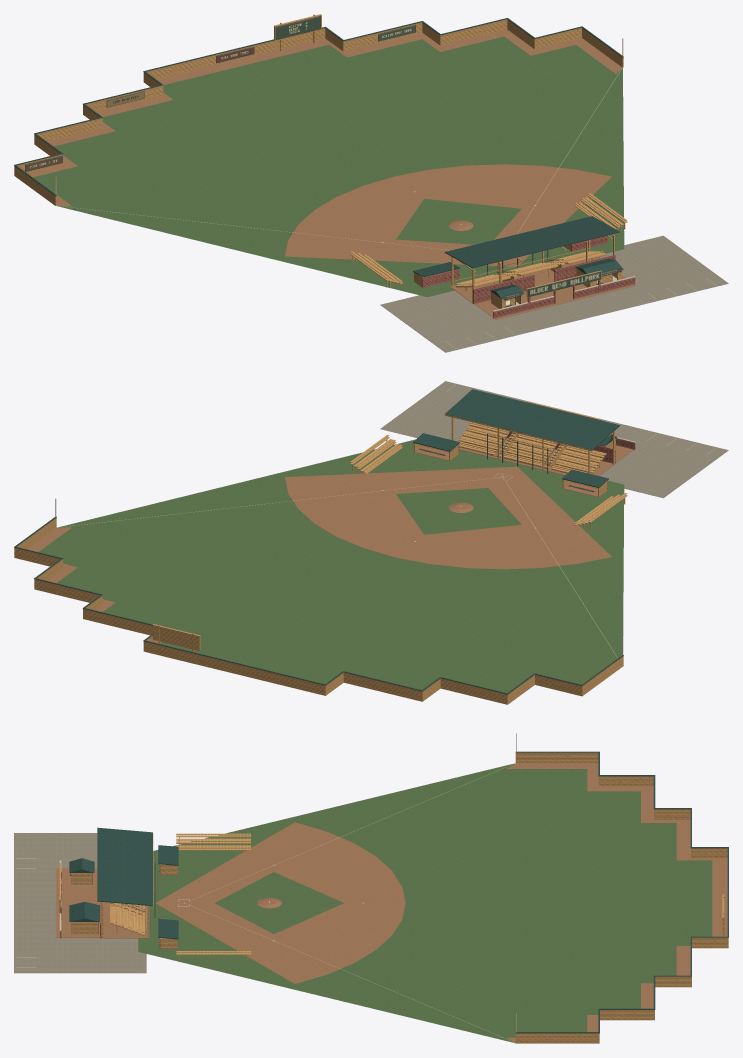
The model's file is alder-bend-1935-far.glb.
3 renders of one model, top to bottom at view 1: azimuth 30°, elevation 25°; view 2: azimuth 150°, elevation 25°; view 3: azimuth 270°, elevation 25°, orthographic.
Visible parts, largest first — view 1: diamond, lot, outfield_fence, grandstand, park_buildings, line_bleachers, sign_name, sign_scoreboard; view 2: diamond, outfield_fence, grandstand, lot, park_buildings, line_bleachers; view 3: diamond, lot, outfield_fence, grandstand, park_buildings, line_bleachers.
Part boxes in pixels (bbox=[...]): diamond: bbox=[27, 29, 624, 297]; lot: bbox=[380, 235, 728, 352]; outfield_fence: bbox=[14, 14, 623, 205]; grandstand: bbox=[444, 216, 619, 304]; park_buildings: bbox=[413, 235, 635, 318]; line_bleachers: bbox=[350, 193, 627, 287]; sign_name: bbox=[528, 271, 601, 296]; sign_scoreboard: bbox=[275, 16, 320, 39]; diamond: bbox=[27, 433, 624, 692]; outfield_fence: bbox=[14, 498, 623, 704]; grandstand: bbox=[444, 389, 619, 475]; lot: bbox=[380, 381, 728, 498]; park_buildings: bbox=[413, 401, 635, 497]; line_bleachers: bbox=[350, 435, 627, 529]; diamond: bbox=[138, 763, 727, 1043]; lot: bbox=[14, 833, 146, 973]; outfield_fence: bbox=[515, 733, 728, 1043]; grandstand: bbox=[97, 827, 153, 938]; park_buildings: bbox=[59, 845, 178, 948]; line_bleachers: bbox=[176, 833, 250, 962].
Size of what is drawn, in the model's own units: 144 by 9.38 by 155.
10 materials, 10 textured.
